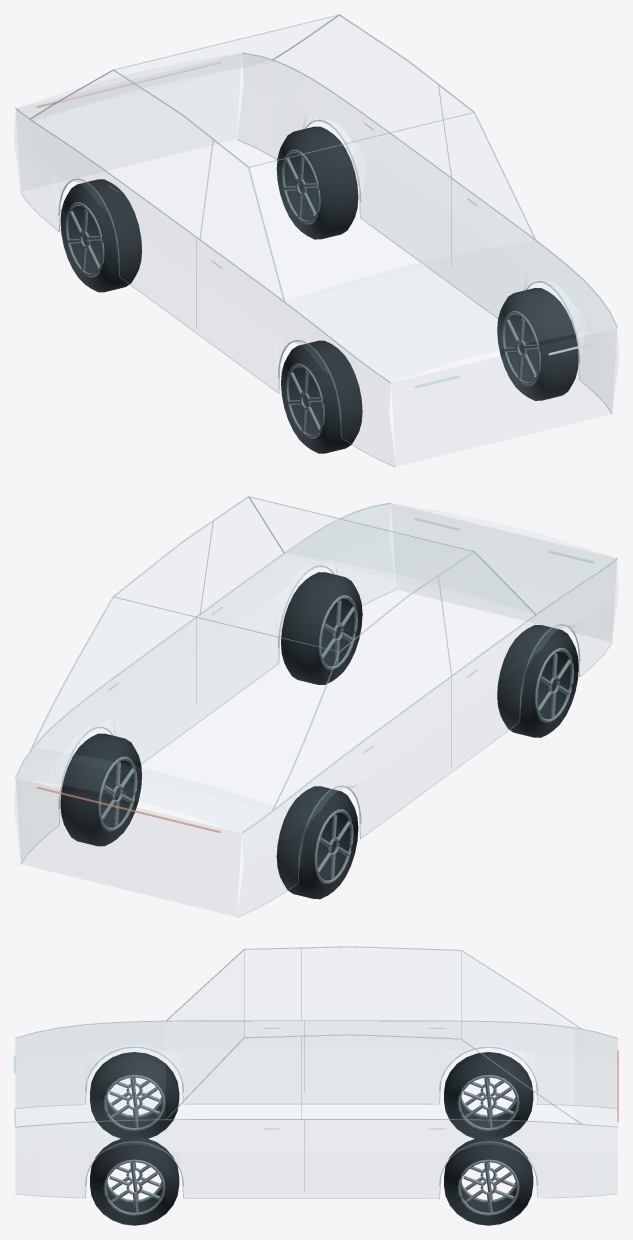
File: hyundai_nexo.glb
3 views of the same model, one above another, from view 1: azimuth 30°, elevation 25°; view 2: azimuth 150°, elevation 25°; view 3: azimuth 270°, elevation 25° (orthographic). The views are drawn at different scales.
Parts seen in each view (by area): view 1: shell_body, shell_tyre_right_rear, shell_tyre_left_rear, shell_tyre_right_front, shell_tyre_left_front, shell_contours, shell_details, shell_rim_left_front, shell_rim_right_front, shell_rim_left_rear, shell_rim_right_rear; view 2: shell_body, shell_tyre_left_front, shell_tyre_right_rear, shell_tyre_right_front, shell_tyre_left_rear, shell_contours, shell_details, shell_rim_left_rear, shell_rim_right_rear, shell_rim_right_front, shell_rim_left_front; view 3: shell_body, shell_tyre_left_rear, shell_tyre_left_front, shell_tyre_right_rear, shell_tyre_right_front, shell_contours, shell_rim_right_front, shell_rim_right_rear, shell_rim_left_rear, shell_rim_left_front, shell_details.
Part boxes in pixels (x1,y1,x2,y2): shell_body: [16, 53, 616, 430]; shell_tyre_right_rear: [60, 179, 141, 292]; shell_tyre_left_rear: [276, 126, 358, 239]; shell_tyre_right_front: [281, 340, 362, 453]; shell_tyre_left_front: [497, 288, 578, 400]; shell_contours: [15, 14, 617, 421]; shell_details: [20, 85, 612, 467]; shell_rim_left_front: [501, 311, 540, 385]; shell_rim_right_front: [285, 363, 324, 438]; shell_rim_left_rear: [281, 149, 320, 224]; shell_rim_right_rear: [65, 202, 104, 277]; shell_body: [16, 503, 616, 875]; shell_tyre_left_front: [281, 572, 362, 684]; shell_tyre_right_rear: [276, 786, 358, 899]; shell_tyre_right_front: [497, 625, 578, 737]; shell_tyre_left_rear: [60, 733, 141, 846]; shell_contours: [15, 496, 617, 867]; shell_details: [20, 522, 612, 917]; shell_rim_left_rear: [98, 756, 137, 831]; shell_rim_right_rear: [314, 809, 353, 883]; shell_rim_right_front: [535, 648, 574, 722]; shell_rim_left_front: [318, 595, 357, 669]; shell_body: [15, 1022, 617, 1152]; shell_tyre_left_rear: [444, 1136, 533, 1225]; shell_tyre_left_front: [90, 1136, 179, 1225]; shell_tyre_right_rear: [444, 1052, 533, 1138]; shell_tyre_right_front: [90, 1052, 179, 1138]; shell_contours: [15, 946, 617, 1185]; shell_rim_right_front: [103, 1074, 165, 1130]; shell_rim_right_rear: [457, 1074, 519, 1130]; shell_rim_left_rear: [457, 1159, 519, 1215]; shell_rim_left_front: [103, 1159, 165, 1215]; shell_details: [15, 948, 617, 1198].
Size of the model in its own units: 1.88 by 1.64 by 4.77.
